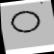no answer: (7, 6, 44, 34)
